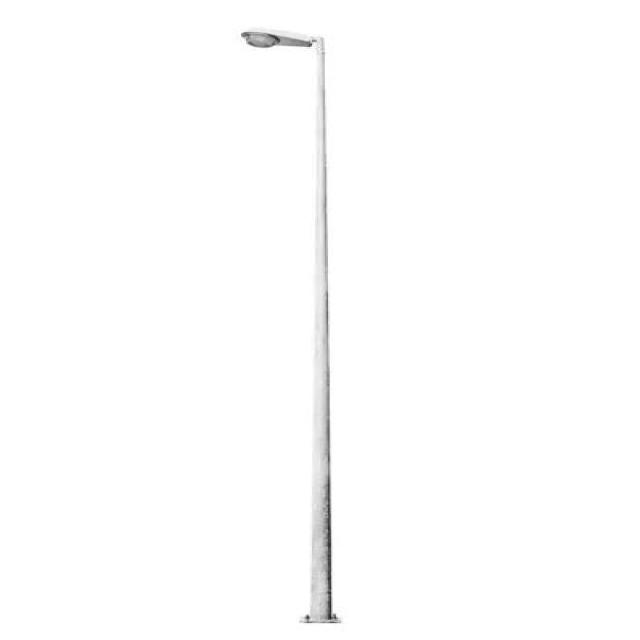Pole: (241, 30, 338, 623)
